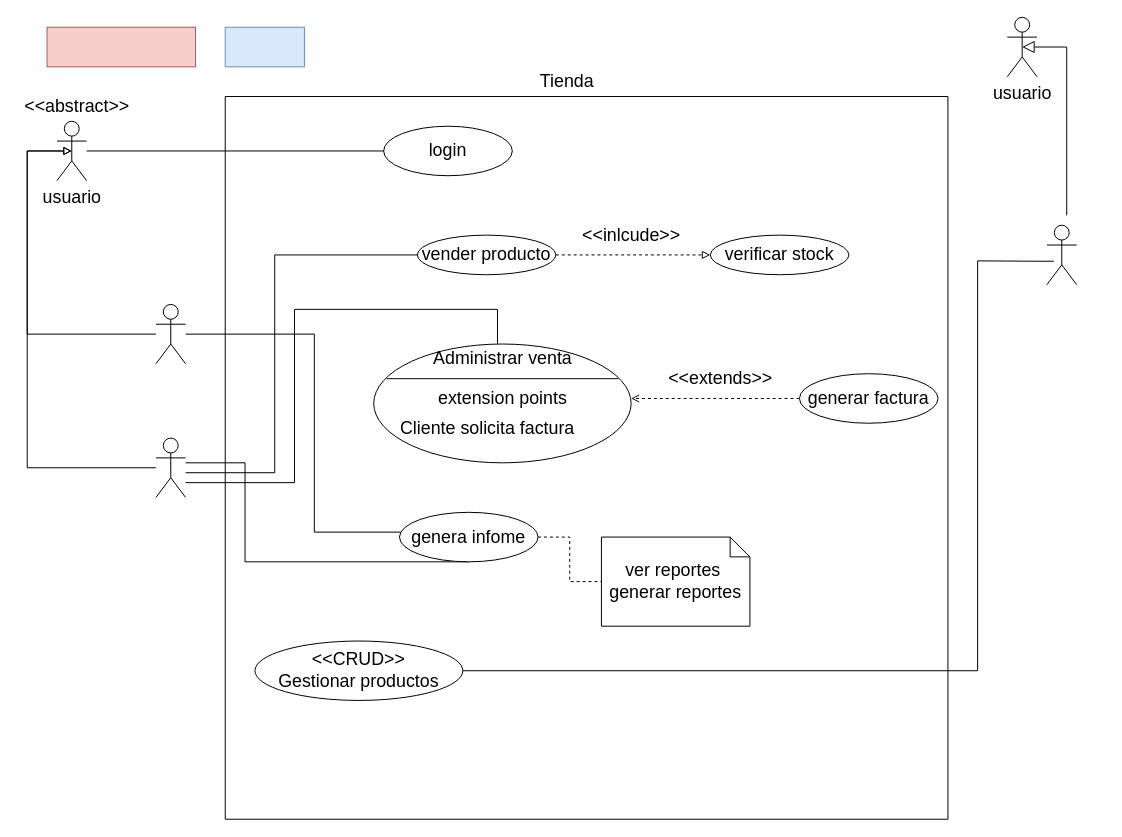
This 1122x837 diagram has some shape labels left out. The shapes that lost their labels are listed below. From the top down, each one's box as (x1, y1, x2, y2) in pixels, then its label:
(46, 26, 196, 67): Dennys Pucha
(224, 26, 304, 67): Taller 2
(1046, 224, 1077, 285): Bodeguero
(155, 303, 186, 364): Gerente
(155, 437, 186, 497): Vendedor
